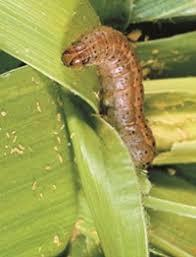fallarmy_worm: (54, 24, 165, 178)
